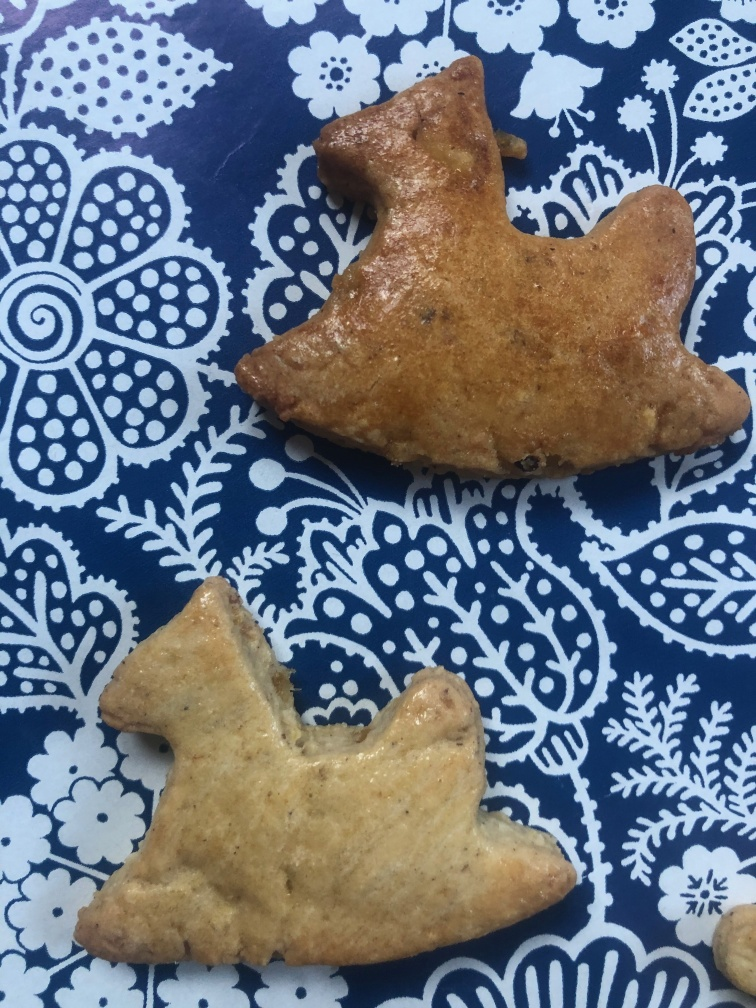lamb: (233, 55, 751, 484), (77, 577, 574, 970)
